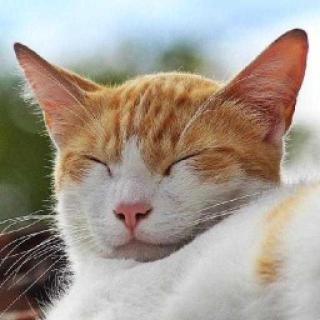cat: (20, 39, 286, 270)
nose: (108, 180, 158, 233)
